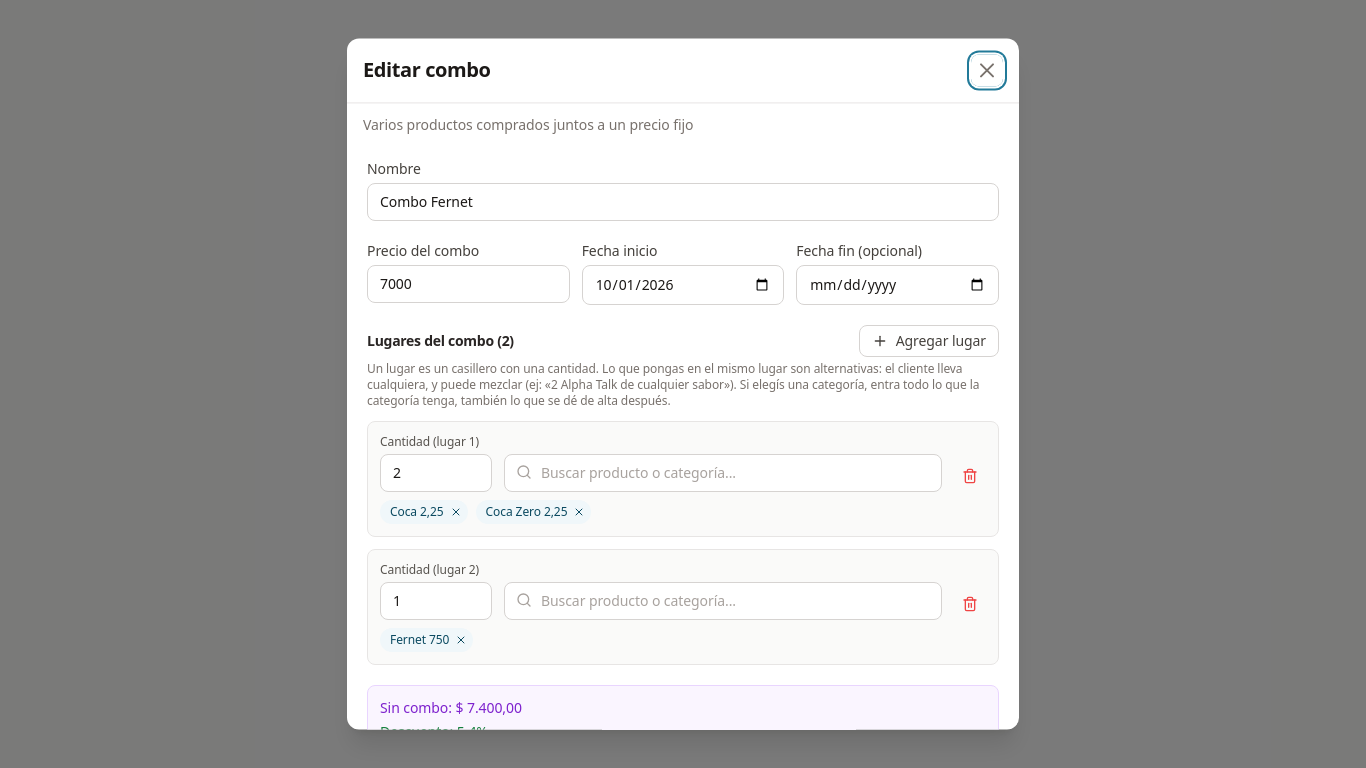
Test: ModalCombo · validación (las mismas reglas del server) › exige nombre
Clear the field labelled "Nombre" at {"x": 683, "y": 202}, box [367,183,999,221]
(page scrolled)
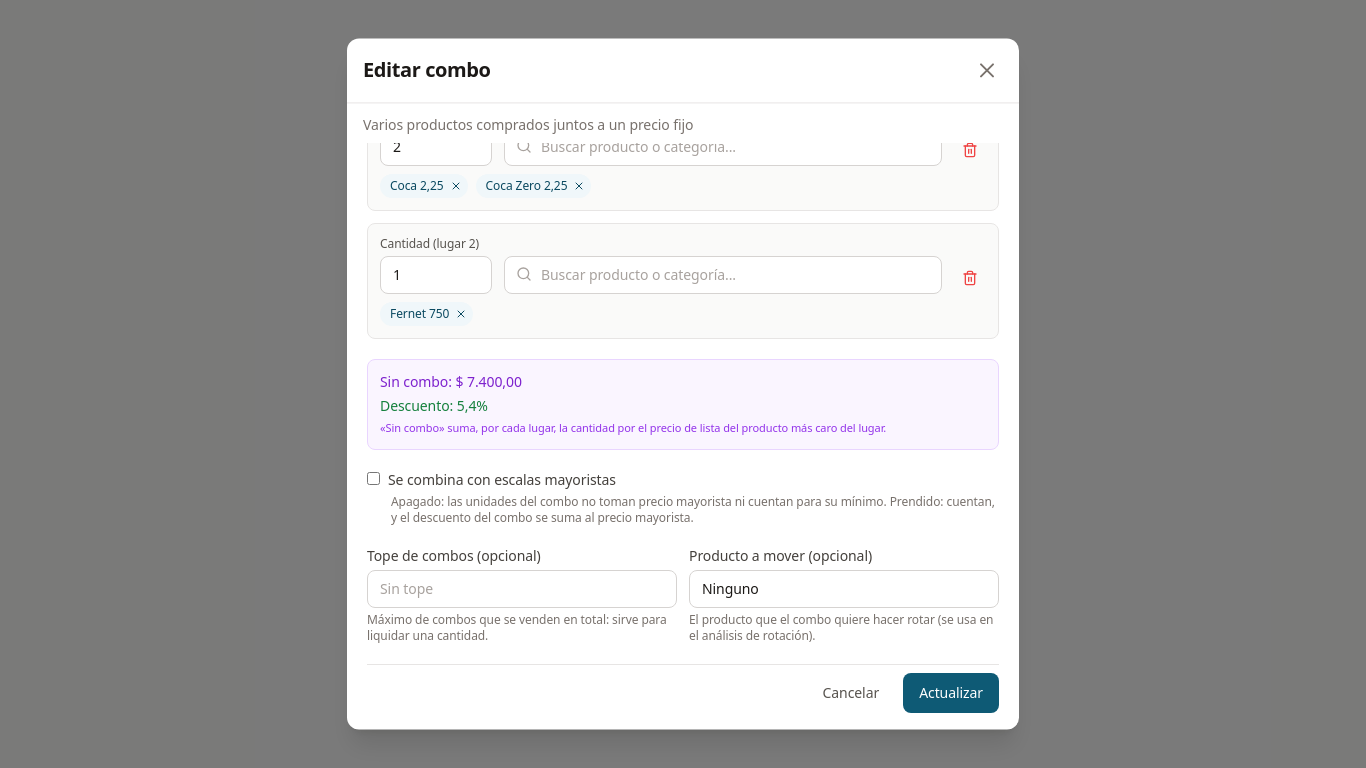
Click the button "Actualizar".
click(951, 693)  # box [903,673,999,713]
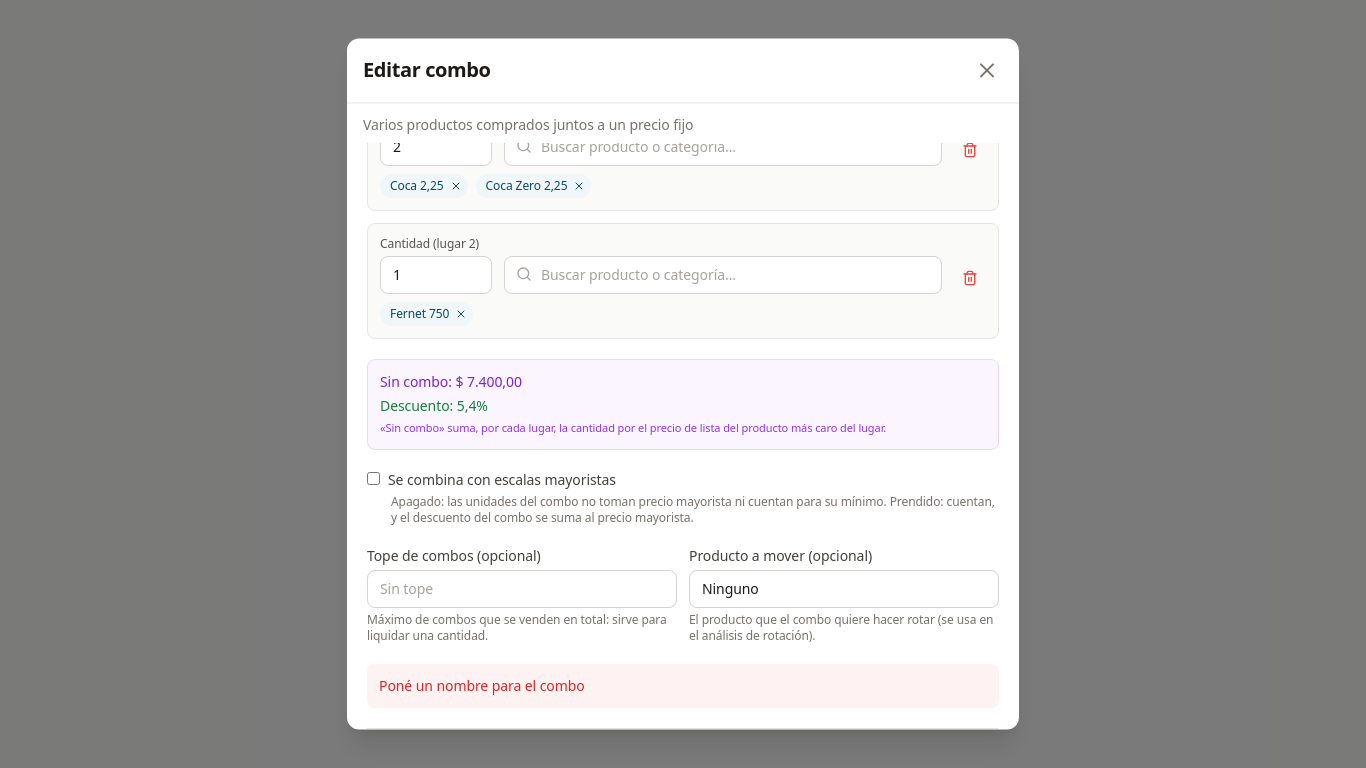
Check: the list item "Poné un nombre para el combo" is shown, box [379,676,585,695]
